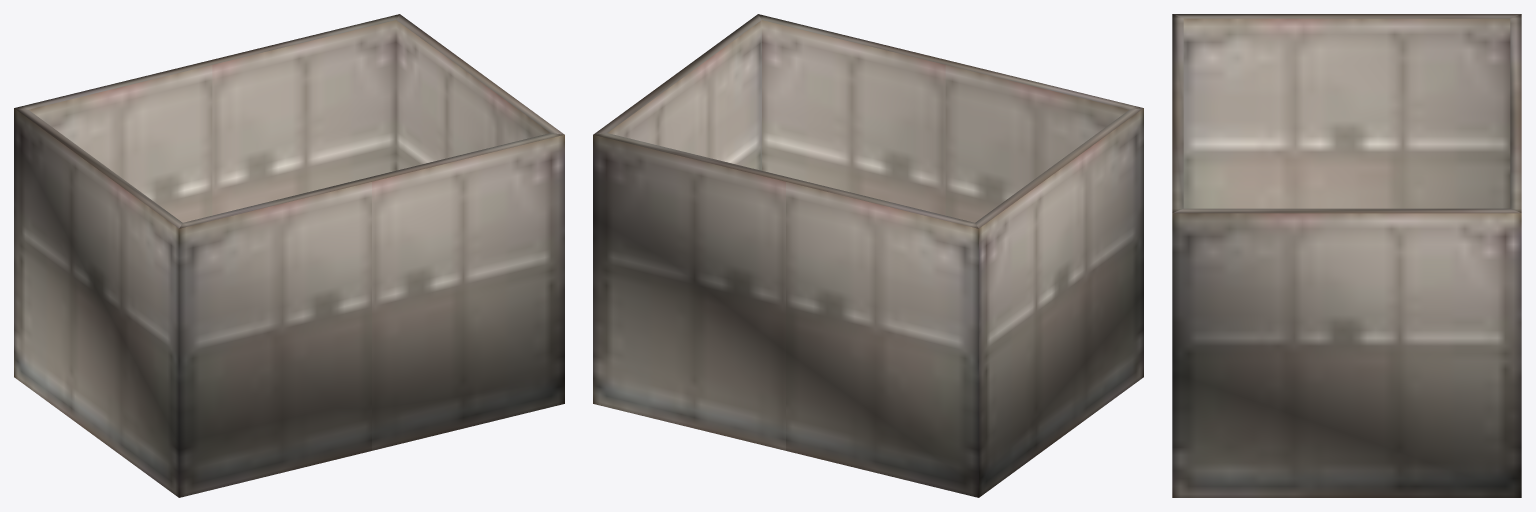
File: psx_industrial_pack_crate.glb
3 views of the same model, side by side, from view 1: azimuth 30°, elevation 25°; view 2: azimuth 150°, elevation 25°; view 3: azimuth 270°, elevation 25° (orthographic). The views are drawn at different scales.
Parts seen in each view (by area): view 1: Crate; view 2: Crate; view 3: Crate.
Part boxes in pixels (x1,y1,x2,y2): Crate: (14, 14, 564, 497); Crate: (593, 14, 1143, 497); Crate: (1172, 14, 1521, 497).
Size of the model in its own units: 1.35 by 0.9001 by 0.9999.
1 material, 1 textured.
